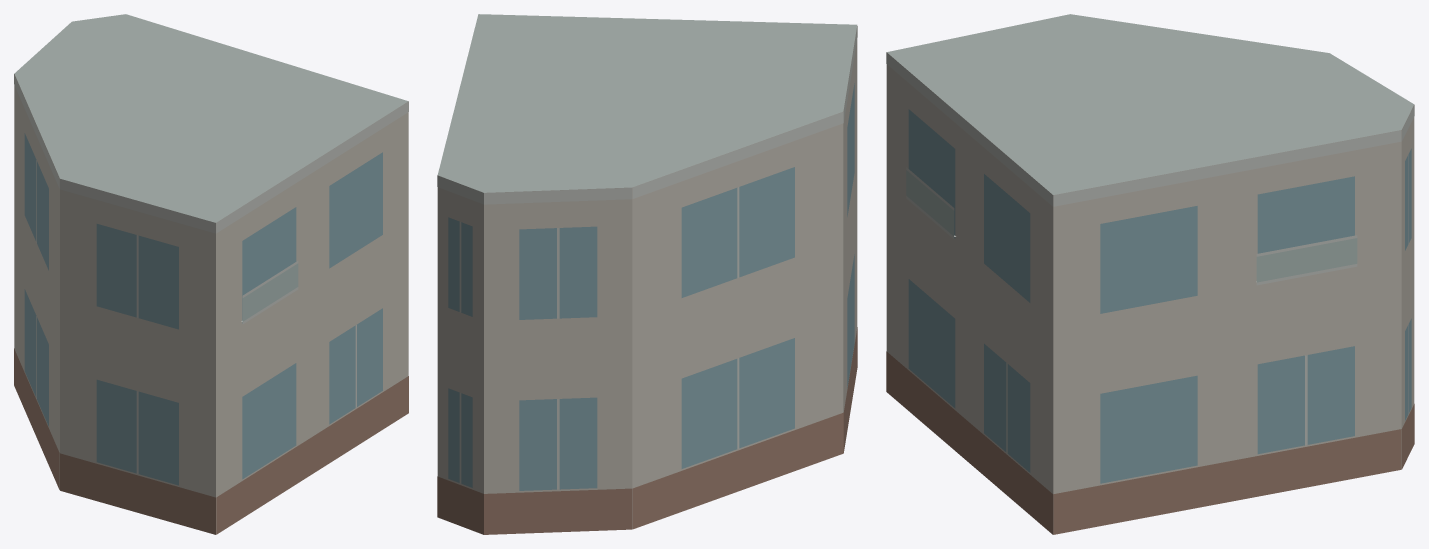
The model's file is survey-upis-32941970.glb.
The picture shows the model from 3 angles, left to right: view 1: azimuth 30°, elevation 25°; view 2: azimuth 150°, elevation 25°; view 3: azimuth 270°, elevation 25°; orthographic projection. The views are drawn at different scales.
Parts seen in each view (by area): view 1: survey-upis-32941970.tmp; view 2: survey-upis-32941970.tmp; view 3: survey-upis-32941970.tmp.
Part boxes in pixels (x1,y1,x2,y2): survey-upis-32941970.tmp: [14, 14, 408, 534]; survey-upis-32941970.tmp: [437, 14, 857, 534]; survey-upis-32941970.tmp: [886, 14, 1414, 534].
Bounding box in the file's own units: 8.13 × 7.1 × 10.01.
